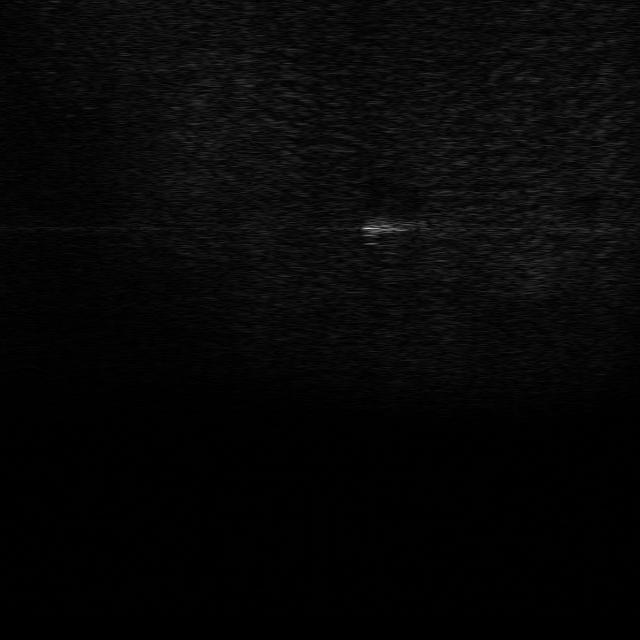plane: (354, 206, 421, 244)
